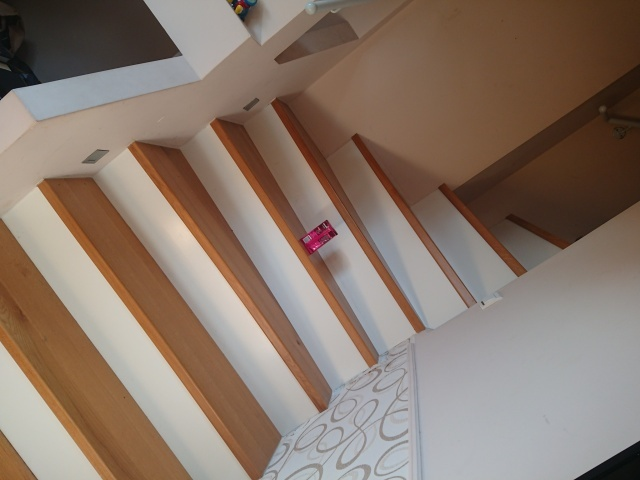Barcaffe Classic Original 225g: (298, 218, 339, 256)
